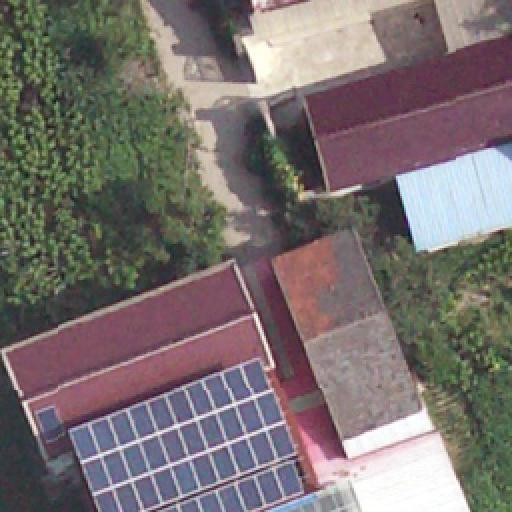solar-panel: (72, 356, 308, 512), (286, 486, 362, 512)
